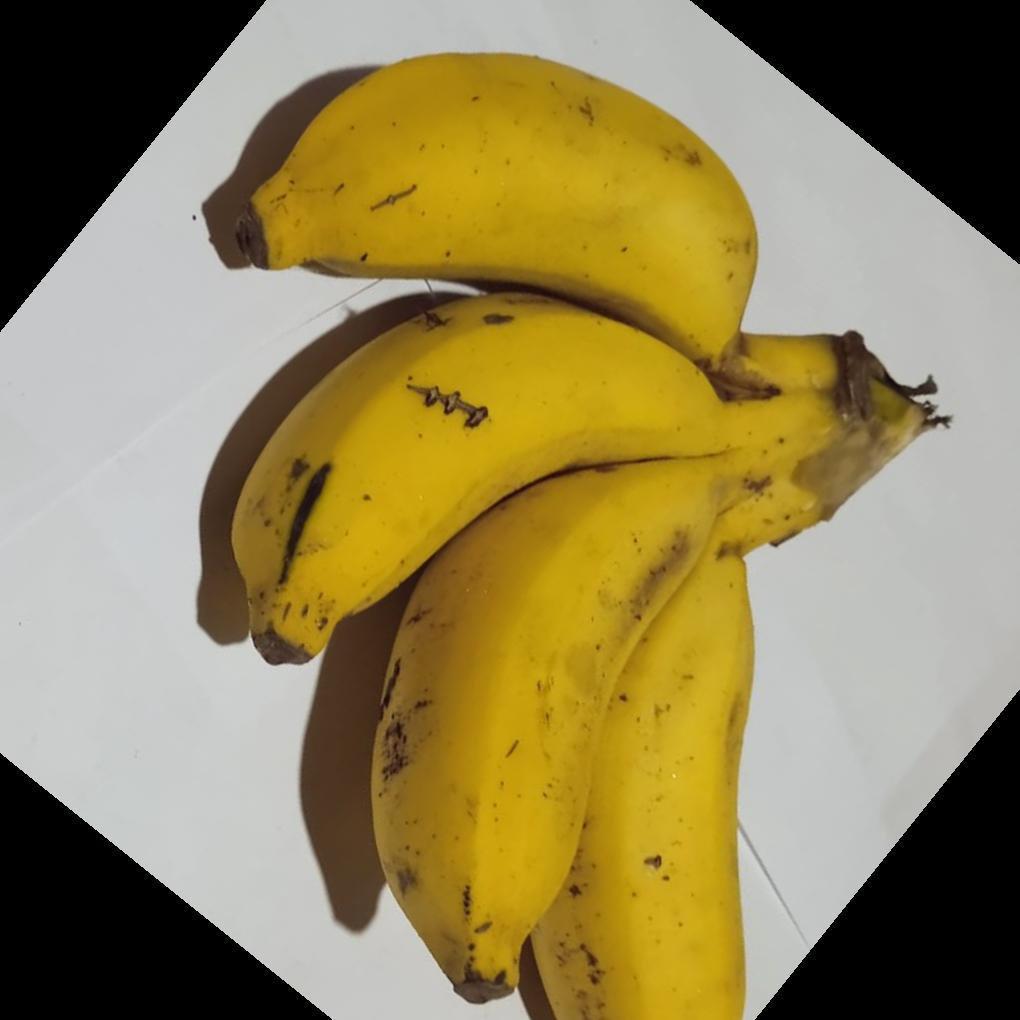Banana Ripe: (224, 55, 931, 1020), (376, 418, 948, 1020), (211, 299, 876, 654), (232, 30, 877, 396)
